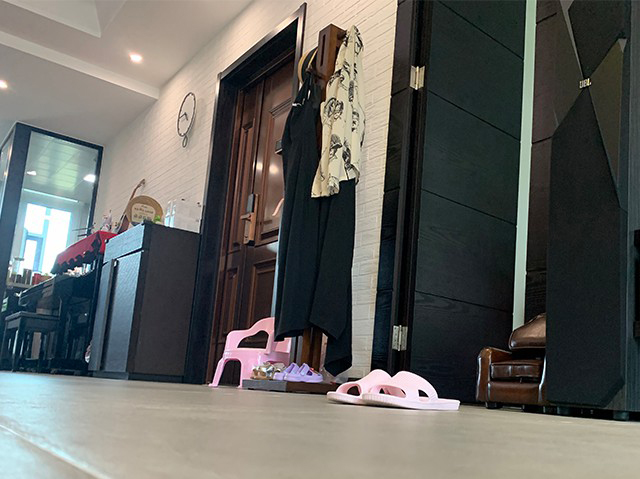cabinet: (86, 218, 201, 384)
slippers: (325, 368, 462, 413)
sofa: (474, 312, 549, 412)
stool: (208, 315, 293, 391), (2, 309, 61, 375)
